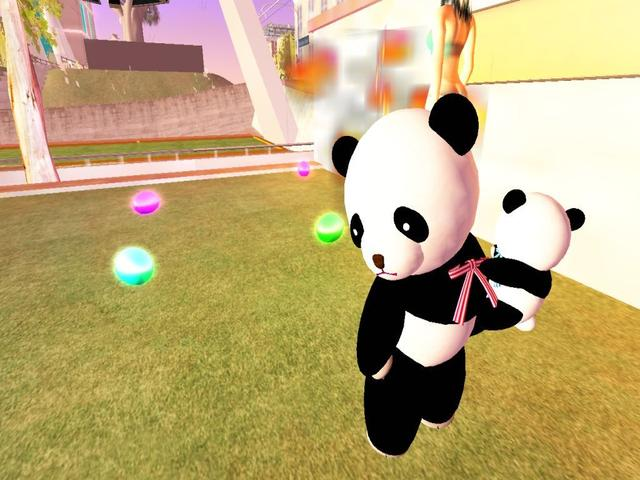panda: (298, 67, 504, 466), (459, 173, 593, 397)
